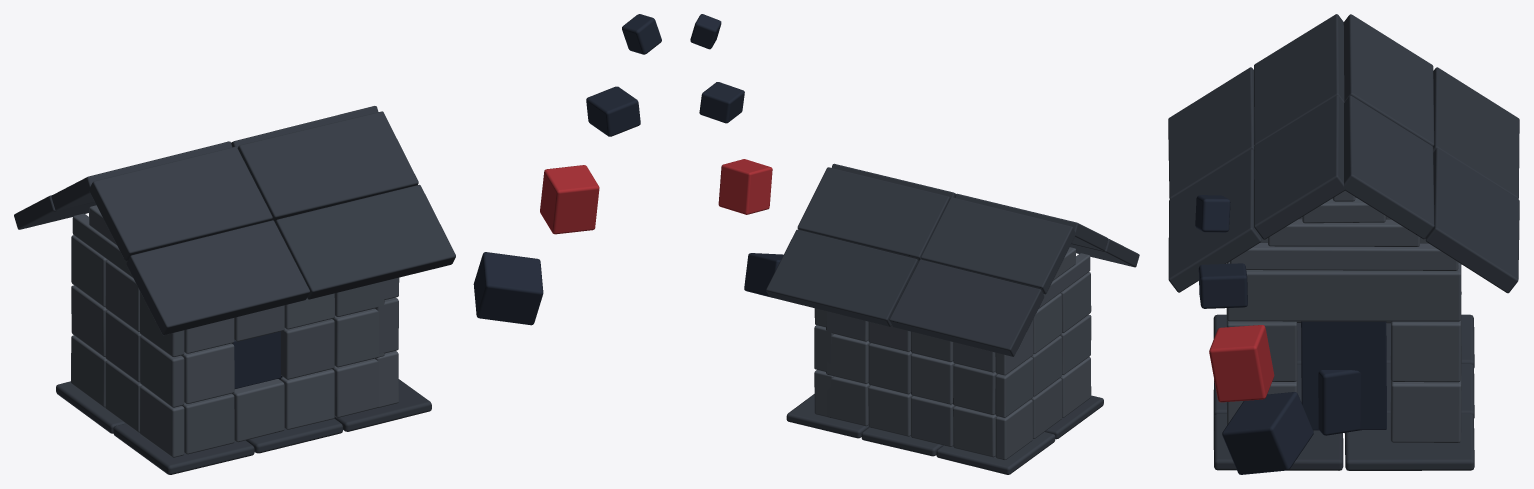
The model's file is house.glb.
3 renders of one model, left to right at view 1: azimuth 30°, elevation 25°; view 2: azimuth 150°, elevation 25°; view 3: azimuth 270°, elevation 25°, orthographic. The views are drawn at different scales.
Visible parts, largest first — view 1: frag46, frag48, frag45, frag47, lift0, lift1, frag9, frag12, frag11, frag7, frag6, frag0 (+27 smaller); view 2: frag50, frag52, frag49, frag51, lift1, frag24, frag19, frag18, frag22, frag25, frag21, frag1 (+27 smaller); view 3: lintel, frag47, frag51, frag52, frag45, frag49, frag48, frag46, frag50, reveal, lift0, frag57 (+16 smaller).
Part boxes in pixels (x1=…): frag46: x1=126, y1=220, x2=309, y2=335; frag48: x1=275, y1=184, x2=455, y2=299; frag45: x1=89, y1=146, x2=272, y2=260; frag47: x1=237, y1=111, x2=418, y2=221; lift0: x1=473, y1=252, x2=543, y2=325; lift1: x1=540, y1=165, x2=599, y2=234; frag9: x1=232, y1=379, x2=284, y2=442; frag12: x1=281, y1=319, x2=334, y2=379; frag11: x1=280, y1=369, x2=334, y2=429; frag7: x1=181, y1=343, x2=234, y2=403; frag6: x1=182, y1=393, x2=234, y2=454; frag0: x1=113, y1=423, x2=254, y2=474; frag50: x1=889, y1=259, x2=1044, y2=356; frag52: x1=766, y1=229, x2=918, y2=326; frag49: x1=921, y1=197, x2=1075, y2=294; frag51: x1=797, y1=167, x2=950, y2=261; lift1: x1=718, y1=159, x2=772, y2=214; frag24: x1=868, y1=385, x2=912, y2=436; frag19: x1=953, y1=363, x2=997, y2=414; frag18: x1=953, y1=406, x2=997, y2=457; frag22: x1=911, y1=353, x2=954, y2=404; frag25: x1=868, y1=343, x2=912, y2=394; frag21: x1=911, y1=396, x2=954, y2=446; frag1: x1=936, y1=432, x2=1055, y2=474; lintel: x1=1226, y1=261, x2=1461, y2=321; frag47: x1=1254, y1=95, x2=1344, y2=239; frag51: x1=1343, y1=95, x2=1434, y2=239; frag52: x1=1425, y1=148, x2=1519, y2=293; frag45: x1=1254, y1=14, x2=1344, y2=145; frag49: x1=1343, y1=14, x2=1434, y2=146; frag48: x1=1168, y1=149, x2=1261, y2=292; frag46: x1=1168, y1=67, x2=1254, y2=199; frag50: x1=1433, y1=67, x2=1519, y2=199; reveal: x1=1301, y1=321, x2=1386, y2=430; lift0: x1=1222, y1=392, x2=1313, y2=474; frag57: x1=1230, y1=243, x2=1458, y2=270.
Bounding box in the file's own units: 5.15 × 3.32 × 2.68.
